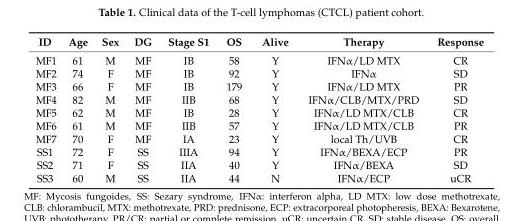table: (34, 34, 483, 184)
table column: (297, 34, 427, 184), (159, 34, 216, 184), (427, 34, 483, 184), (251, 34, 297, 184), (216, 34, 251, 184), (125, 34, 159, 184), (61, 34, 94, 184), (94, 34, 125, 184), (34, 34, 61, 184)
table column header: (34, 34, 483, 50)
table row: (34, 34, 483, 50), (34, 50, 483, 66), (34, 144, 483, 158), (34, 66, 483, 79), (34, 79, 483, 92), (34, 92, 483, 105), (34, 105, 483, 118), (34, 118, 483, 131), (34, 131, 483, 144), (34, 158, 483, 171), (34, 171, 483, 184)
